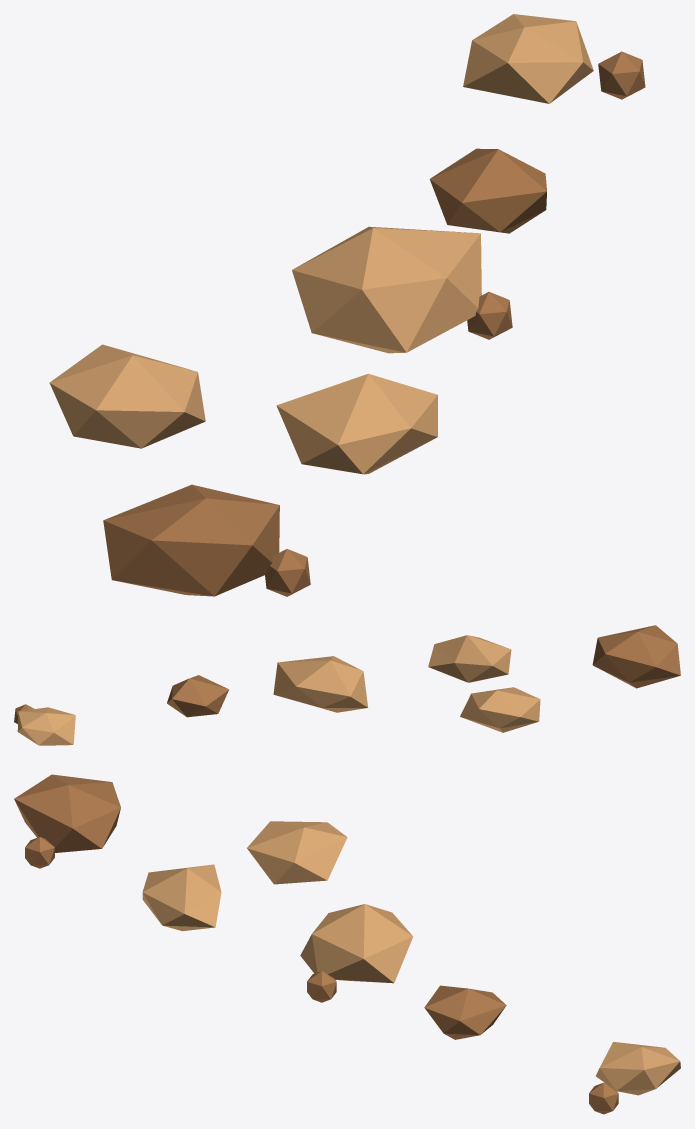
File: sb_crumb_trail.glb
3 renders of one model, top to bottom at view 1: azimuth 30°, elevation 25°; view 2: azimuth 150°, elevation 25°; view 3: azimuth 270°, elevation 25°, orthographic. The views are drawn at different scales.
Parts seen in each view (by area): view 1: crumb_trail; view 2: crumb_trail; view 3: crumb_trail.
Boxes of the visible parts, box(x1,y1,x2,y2) form: crumb_trail: box(49, 14, 645, 596); crumb_trail: box(14, 625, 680, 745); crumb_trail: box(14, 774, 680, 1114).
Size of the model in its own units: 0.8077 by 0.0956 by 0.7569.
